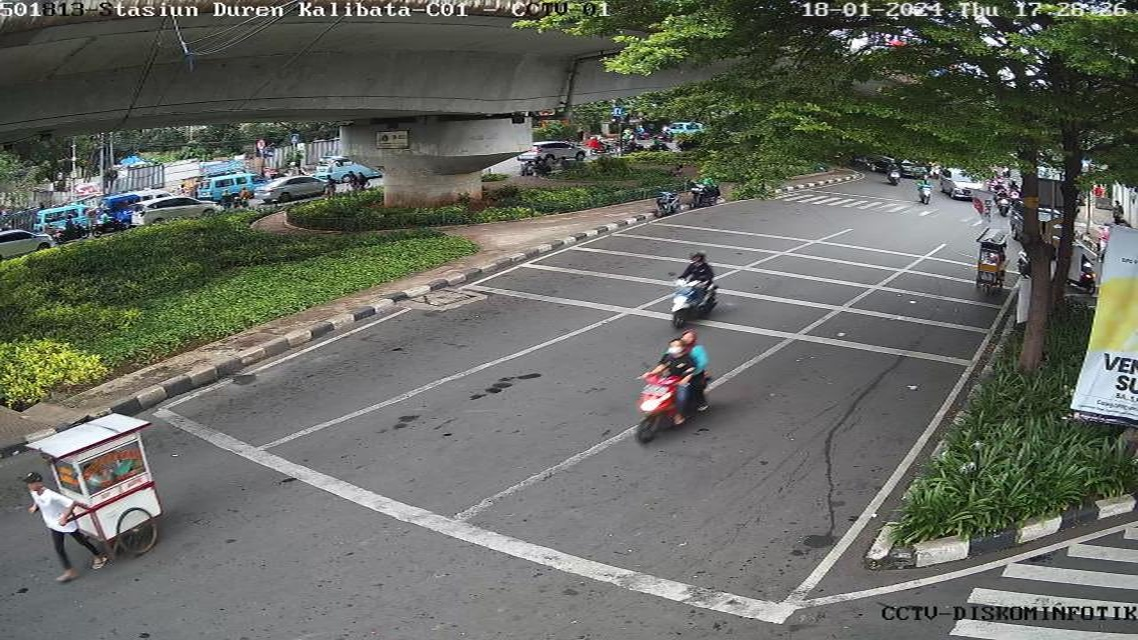Gerobak: (5, 428, 181, 554), (968, 229, 1010, 297)
